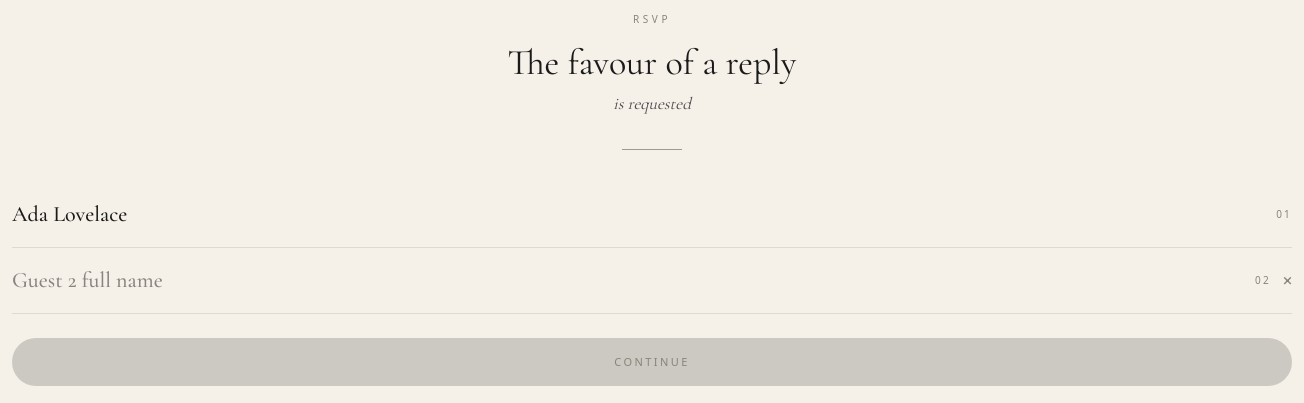
Test: <RsvpForm /> — names step › add-guest button is hidden once slots == max_guests and returns when one is removed
Expected: the button "add another guest" is not shown
Click the button named "remove".
click(1288, 280)  # box [1283,271,1292,289]
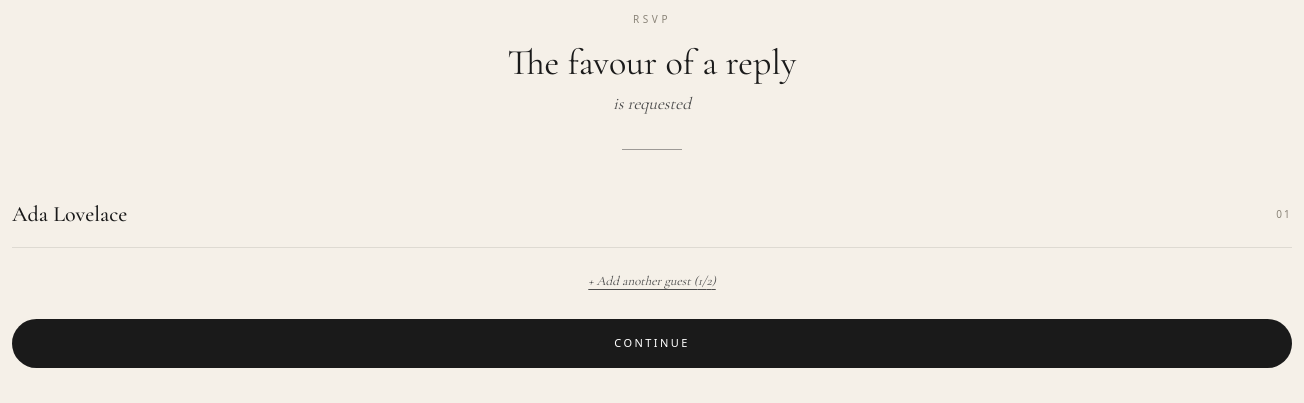
Now the button "+ Add another guest (1/2)" is shown, box [588,272,716,291]
